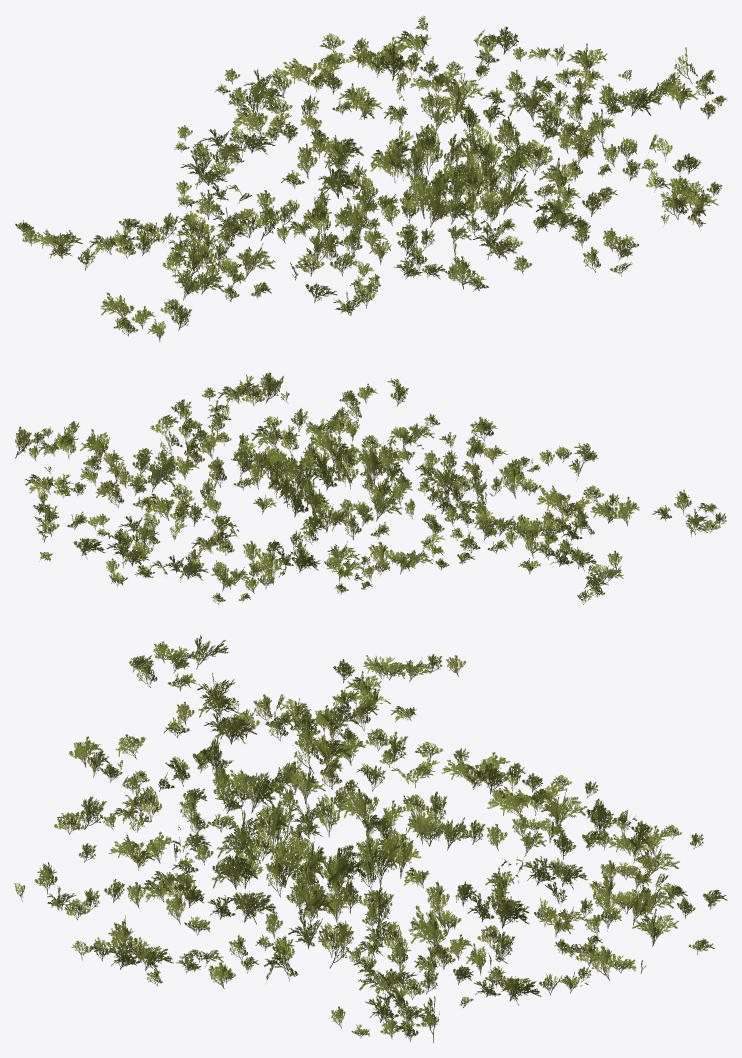
File: MLRT_Tree_Far_Group_02.fbx
3 views of the same model, one above another, from view 1: azimuth 30°, elevation 25°; view 2: azimuth 150°, elevation 25°; view 3: azimuth 270°, elevation 25° (orthographic). The views are drawn at different scales.
Parts seen in each view (by area): view 1: MLRT_Tree_Far_Group_02_LOD0; view 2: MLRT_Tree_Far_Group_02_LOD0; view 3: MLRT_Tree_Far_Group_02_LOD0.
Boxes of the visible parts, box(x1,y1,x2,y2) form: MLRT_Tree_Far_Group_02_LOD0: box(15, 15, 727, 342); MLRT_Tree_Far_Group_02_LOD0: box(15, 372, 726, 604); MLRT_Tree_Far_Group_02_LOD0: box(14, 635, 727, 1042).
Size of what is drawn, in the model's own units: 158 by 12.26 by 121.
